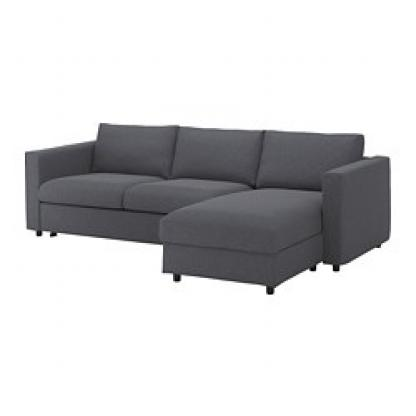Sofa: (18, 102, 391, 296)
